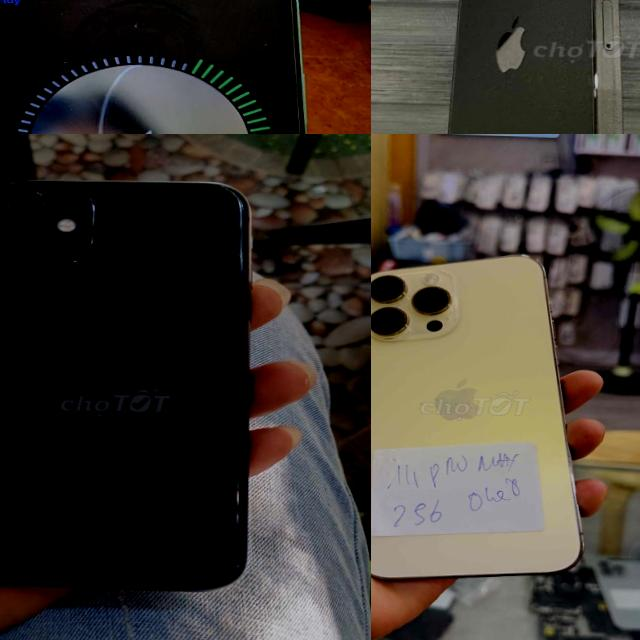gen_11: (0, 155, 278, 610), (0, 0, 349, 134)
gen_12_13: (438, 0, 640, 134)
gen_14: (371, 249, 595, 585)
scratch: (206, 175, 256, 580), (115, 208, 219, 280)
